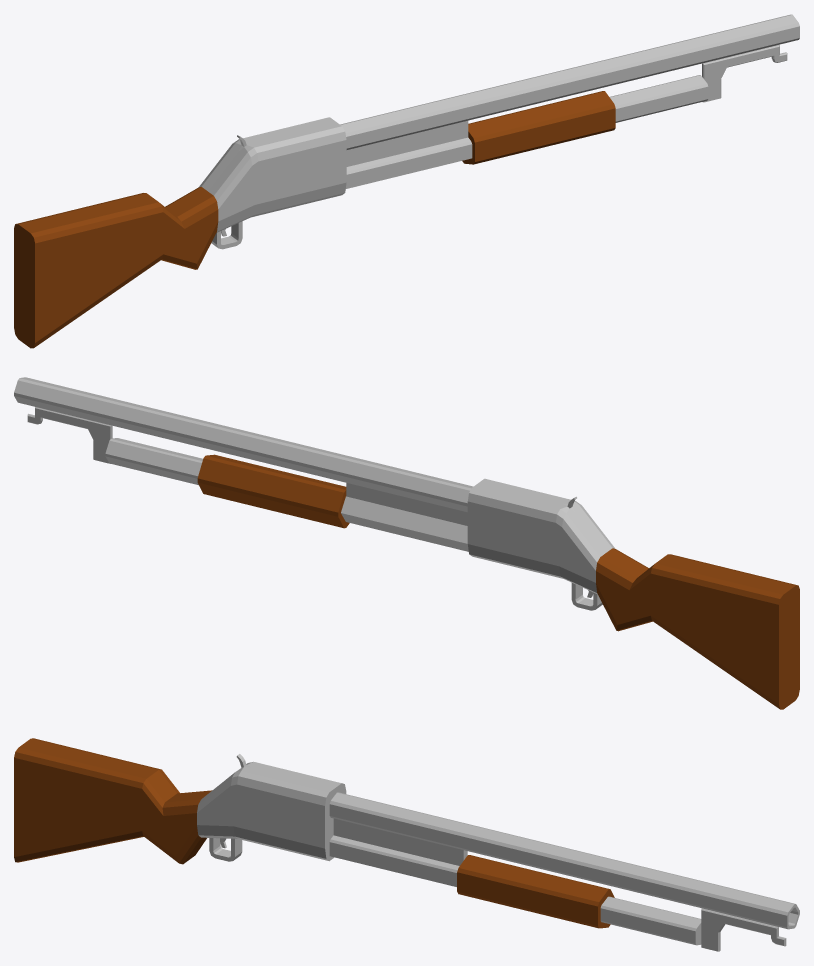
Rendered from Shotgun.fbx.
The picture shows the model from 3 angles, top to bottom: view 1: azimuth 30°, elevation 25°; view 2: azimuth 150°, elevation 25°; view 3: azimuth 330°, elevation 25°; orthographic projection.
Parts seen in each view (by area): view 1: Shotgun; view 2: Shotgun; view 3: Shotgun.
Boxes of the visible parts, bbox=[...] form: Shotgun: bbox=[14, 14, 799, 348]; Shotgun: bbox=[14, 377, 799, 709]; Shotgun: bbox=[14, 738, 799, 951].
Size of the model in its own units: 141 by 27.29 by 6.72.
